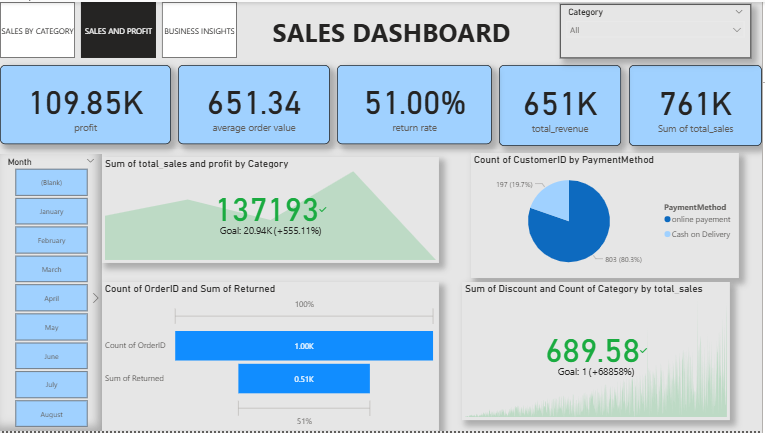

The dashboard page shown, as its layout file describes it:
{"tool":"powerbi","page":{"name":"SALES AND PROFIT","canvas":[1280,720],"ordinal":1},"visuals":[{"type":"card","fields":{"Values":["Sum(ecommerce_case_study_data.total_sales)"]},"box":[1056.6,105.8,223.4,136.1],"z":0},{"type":"card","fields":{"Values":["ecommerce_case_study_data.profit"]},"box":[0,105.8,287.2,132.7],"z":1000},{"type":"card","fields":{"Values":["ecommerce_case_study_data.total_revenue"]},"box":[838.2,105.8,204.9,136.1],"z":2000},{"type":"card","fields":{"Values":["ecommerce_case_study_data.average order value"]},"box":[299,105.8,255.3,132.7],"z":3000},{"type":"card","fields":{"Values":["ecommerce_case_study_data.return rate"]},"box":[566.1,105.8,260.4,132.7],"z":4000},{"type":"textbox","box":[299,0,717.3,94.1],"z":5000},{"type":"slicer","fields":{"Values":["ecommerce_case_study_data.OrderDate.Variation.Date Hierarchy.Month"]},"box":[0,255.3,171.3,465.3],"z":6000},{"type":"slicer","fields":{"Values":["ecommerce_case_study_data.Category"]},"box":[940.7,3.4,320.8,90.7],"z":7000},{"type":"funnel","fields":{"Y":["CountNonNull(ecommerce_case_study_data.OrderID)","Sum(ecommerce_case_study_data.Returned)"]},"box":[171.3,470.3,566.1,250.3],"z":8000},{"type":"kpi","fields":{"Indicator":["Sum(ecommerce_case_study_data.total_sales)"],"Goal":["ecommerce_case_study_data.profit"],"TrendLine":["ecommerce_case_study_data.Category"]},"box":[171.3,260.4,566.1,178.1],"z":9000},{"type":"pieChart","fields":{"Category":["ecommerce_case_study_data.PaymentMethod"],"Y":["CountNonNull(ecommerce_case_study_data.CustomerID)"]},"box":[791.2,253.6,450.2,210],"z":10000},{"type":"pageNavigator","box":[0,0,399.8,94.1],"z":11000},{"type":"kpi","fields":{"Goal":["CountNonNull(ecommerce_case_study_data.Category)"],"Indicator":["Sum(ecommerce_case_study_data.Discount)"],"TrendLine":["ecommerce_case_study_data.total_sales"]},"box":[776.1,470.3,450.2,231.8],"z":11001}]}

Visuals, with their boxes in screenshot pixels (x1, y1, x2, y2), scaled from the page's 1280x720 canvas onto the 765x433 screenshot:
card - Sum(ecommerce_case_study_data.total_sales): detection(631, 64, 764, 145)
card - ecommerce_case_study_data.profit: detection(0, 64, 172, 143)
card - ecommerce_case_study_data.total_revenue: detection(501, 64, 623, 145)
card - ecommerce_case_study_data.average order value: detection(179, 64, 331, 143)
card - ecommerce_case_study_data.return rate: detection(338, 64, 494, 143)
textbox: detection(179, 0, 607, 57)
slicer - ecommerce_case_study_data.OrderDate.Variation.Date Hierarchy.Month: detection(0, 154, 102, 432)
slicer - ecommerce_case_study_data.Category: detection(562, 2, 754, 57)
funnel - CountNonNull(ecommerce_case_study_data.OrderID) x Sum(ecommerce_case_study_data.Returned): detection(102, 283, 441, 432)
kpi - Sum(ecommerce_case_study_data.total_sales) x ecommerce_case_study_data.profit: detection(102, 157, 441, 264)
pieChart - ecommerce_case_study_data.PaymentMethod x CountNonNull(ecommerce_case_study_data.CustomerID): detection(473, 153, 742, 279)
pageNavigator: detection(0, 0, 239, 57)
kpi - CountNonNull(ecommerce_case_study_data.Category) x Sum(ecommerce_case_study_data.Discount): detection(464, 283, 733, 422)
